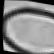no answer: (0, 2, 54, 54)
